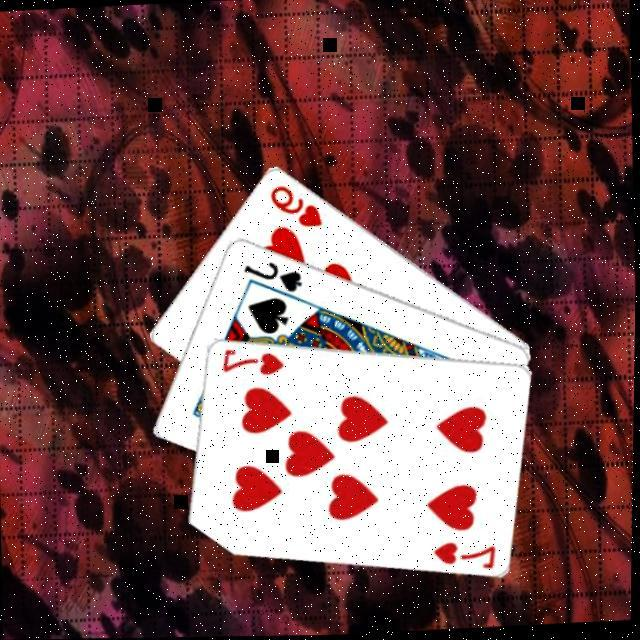7H: (432, 539, 501, 577), (219, 345, 288, 382)
9H: (266, 181, 327, 234)
JS: (241, 258, 306, 299)
